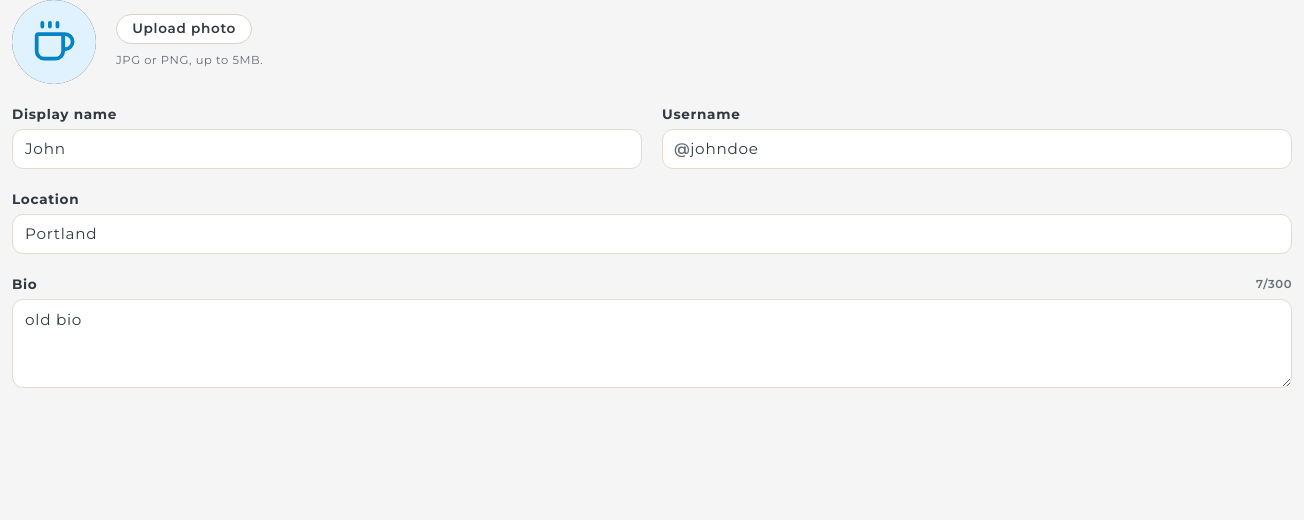
Test: Profile settings — username availability › reports a taken username after the debounce
The width and height of the screenshot is (1304, 520).
Replace the text in the field labelled "Username @" with "janedoe" at (977, 149), box [662,129,1292,169]
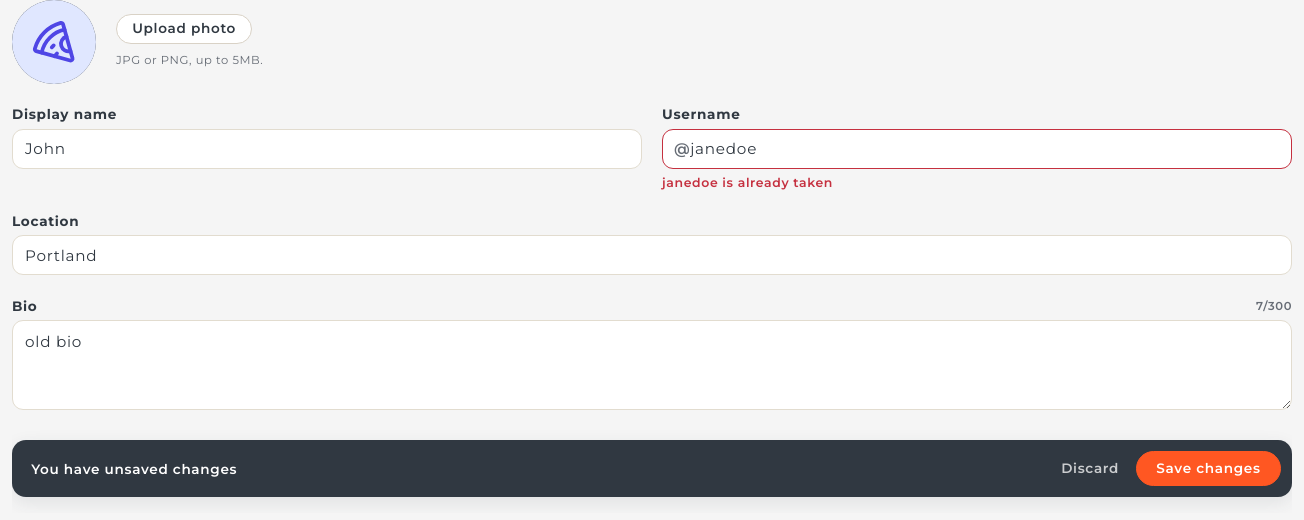
Now the text "janedoe is already taken" is shown, box [662,175,833,190]
